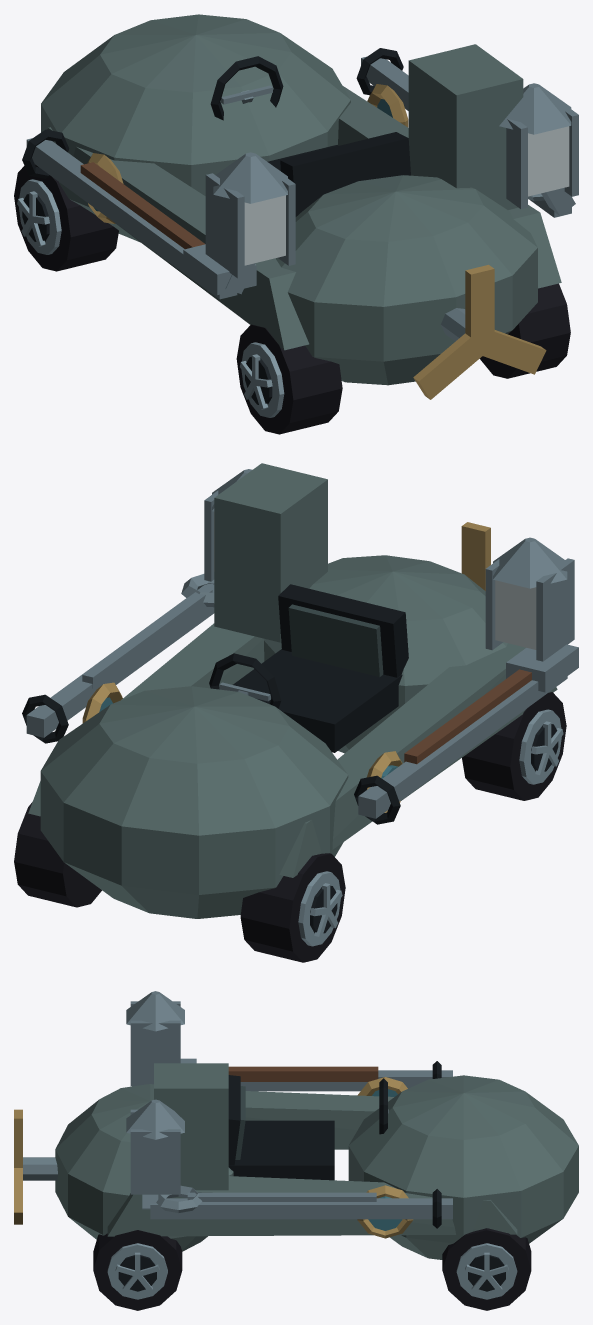
Rendered from kart.glb.
The picture shows the model from 3 angles, top to bottom: view 1: azimuth 30°, elevation 25°; view 2: azimuth 150°, elevation 25°; view 3: azimuth 270°, elevation 25°; orthographic projection. The views are drawn at different scales.
Parts seen in each view (by area): view 1: identity-submarine-submarine-rounded-bow-and-stern-propeller, identity-submarine-motif-lanterns, identity-submarine-motif-pipes, wheel-rear-left, identity-submarine-driver-cockpit, wheel-front-left, identity-submarine-motif-tools, wheel-rear-right; view 2: identity-submarine-submarine-rounded-bow-and-stern-propeller, identity-submarine-driver-cockpit, identity-submarine-motif-lanterns, identity-submarine-motif-pipes, wheel-front-left, identity-submarine-motif-tools, wheel-rear-left, wheel-front-right; view 3: identity-submarine-submarine-rounded-bow-and-stern-propeller, identity-submarine-motif-lanterns, identity-submarine-motif-pipes, identity-submarine-driver-cockpit, wheel-rear-right, wheel-front-right, identity-submarine-motif-tools.
Boxes of the visible parts, x1,y1,x2,y2 form: identity-submarine-submarine-rounded-bow-and-stern-propeller: (41, 14, 561, 399); identity-submarine-motif-lanterns: (205, 83, 578, 278); identity-submarine-motif-pipes: (22, 48, 575, 299); wheel-rear-left: (236, 324, 342, 434); identity-submarine-driver-cockpit: (210, 56, 410, 216); wheel-front-left: (14, 164, 118, 271); identity-submarine-motif-tools: (80, 162, 544, 294); wheel-rear-right: (479, 283, 570, 378); identity-submarine-submarine-rounded-bow-and-stern-propeller: (28, 463, 557, 918); identity-submarine-driver-cockpit: (209, 584, 408, 752); identity-submarine-motif-lanterns: (204, 469, 574, 661); identity-submarine-motif-pipes: (22, 584, 567, 824); wheel-front-left: (240, 853, 345, 962); identity-submarine-motif-tools: (82, 574, 578, 764); wheel-rear-left: (462, 692, 566, 800); wheel-front-right: (14, 802, 101, 907); identity-submarine-submarine-rounded-bow-and-stern-propeller: (14, 1063, 578, 1259); identity-submarine-motif-lanterns: (126, 991, 184, 1194); identity-submarine-motif-pipes: (142, 1061, 452, 1228); identity-submarine-driver-cockpit: (228, 1075, 388, 1180); wheel-rear-right: (93, 1230, 182, 1310); wheel-front-right: (442, 1228, 531, 1310); identity-submarine-motif-tools: (156, 1058, 378, 1212).
Bounding box in the file's own units: 1.95 × 1.36 × 3.17.
